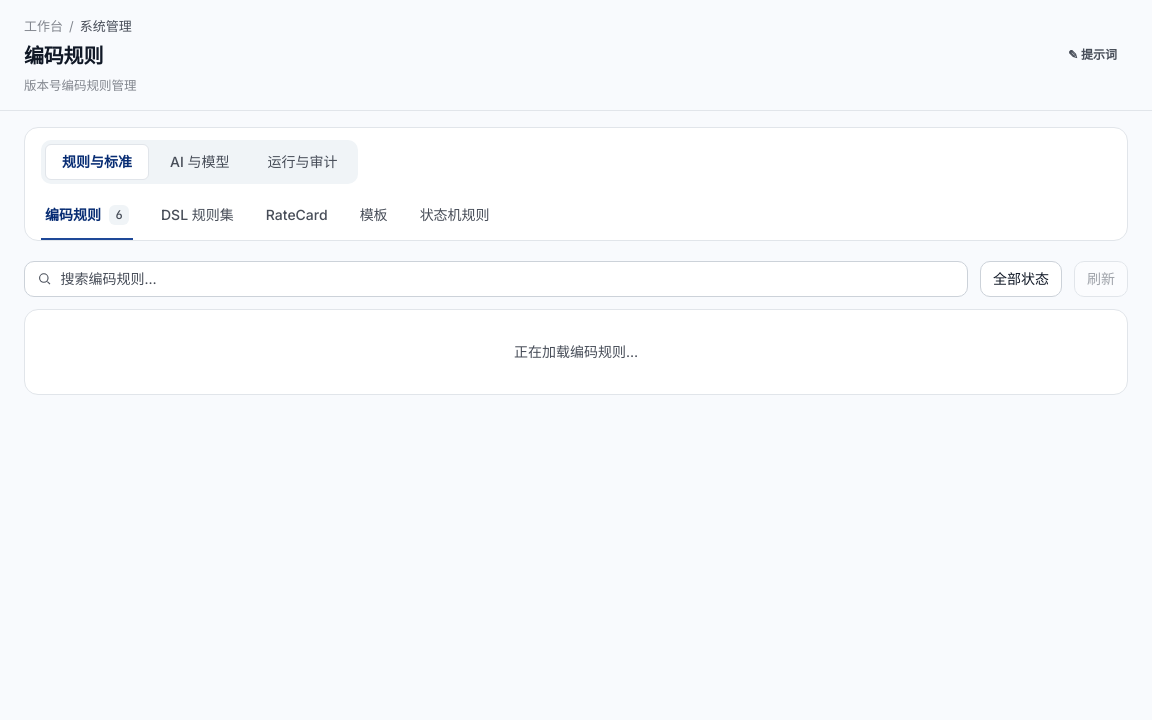
Test: SystemManagement shared dialogs › closes prompt management from the shared close button and restores focus
The image size is (1152, 720).
Step 1. Click the button "✎ 提示词" → x=1092, y=54, box left=1057, top=40, right=1128, bottom=68
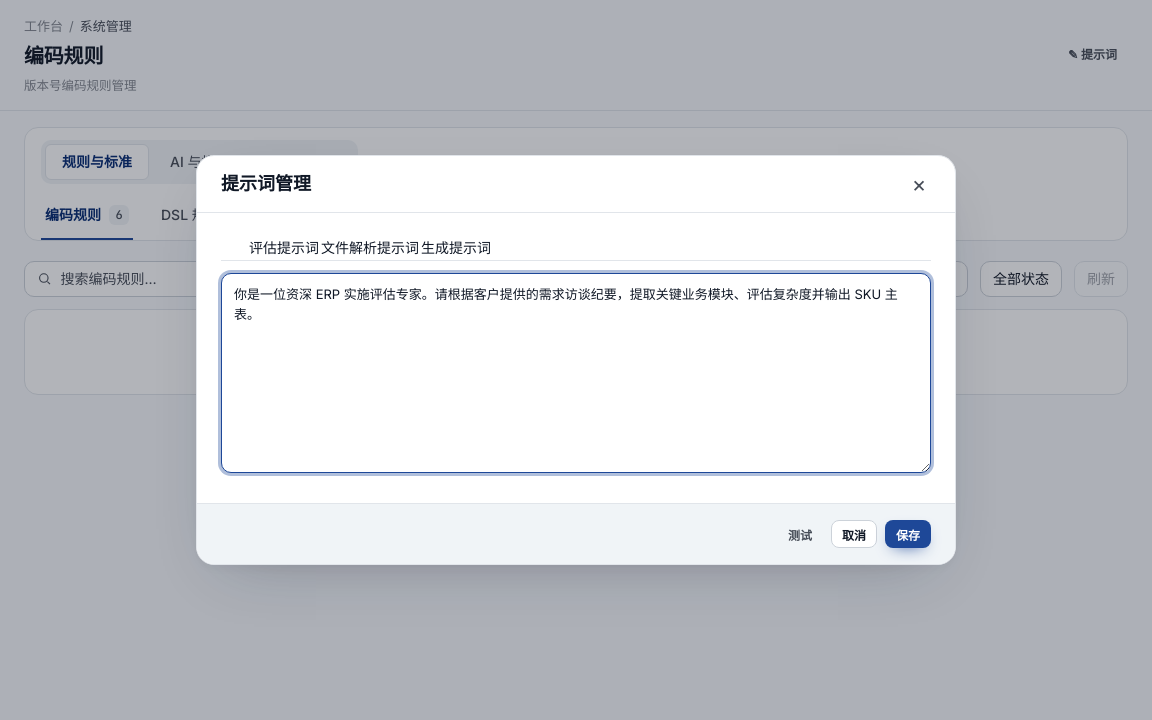
Step 2. Click the button named "关闭提示词管理" → x=919, y=184, box left=901, top=166, right=937, bottom=202
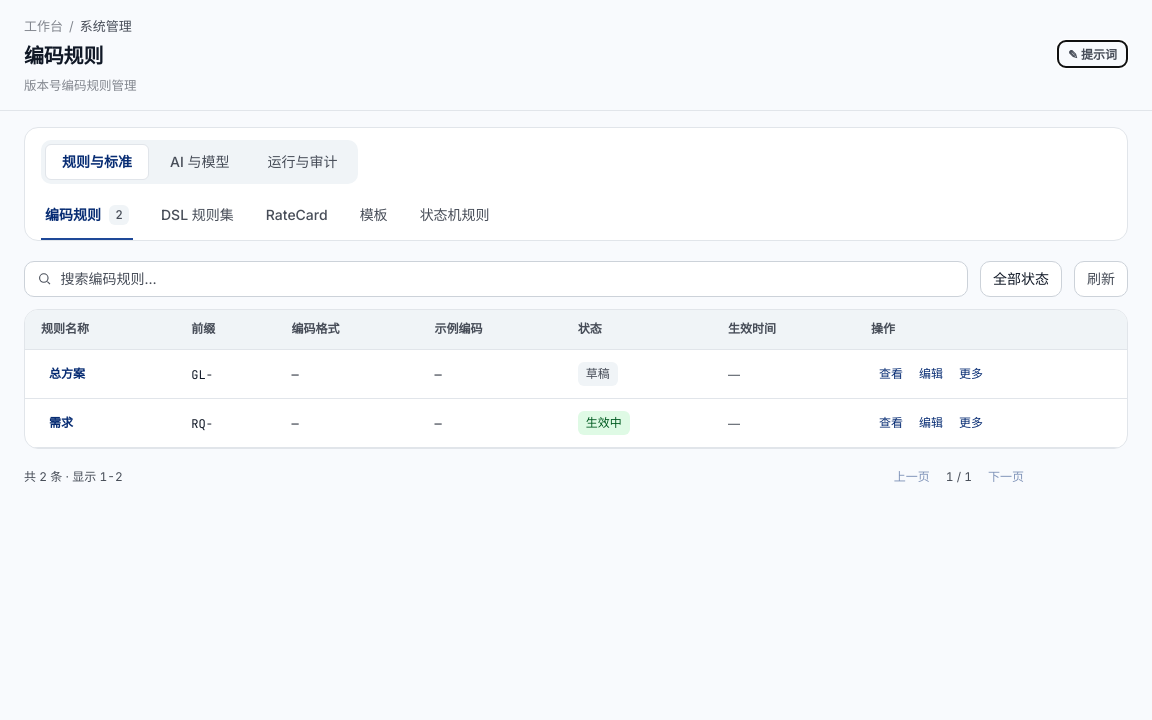
Check: the heading "提示词管理" is gone
